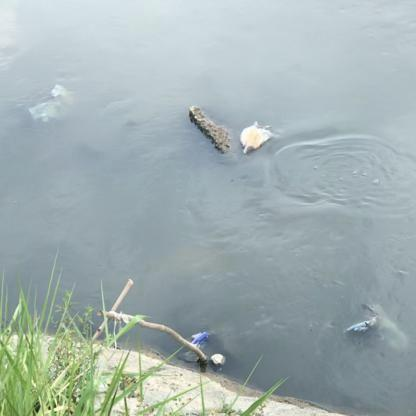Trash: (26, 86, 79, 126), (240, 120, 274, 153), (187, 330, 214, 344)
